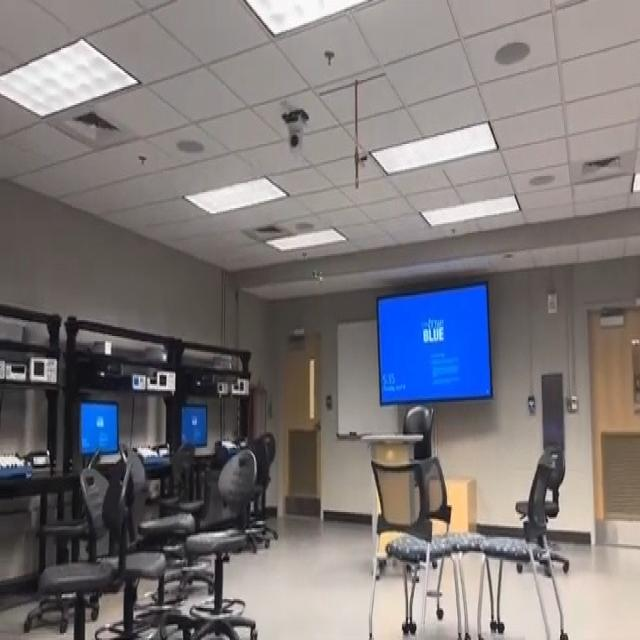drone: (308, 261, 329, 297)
